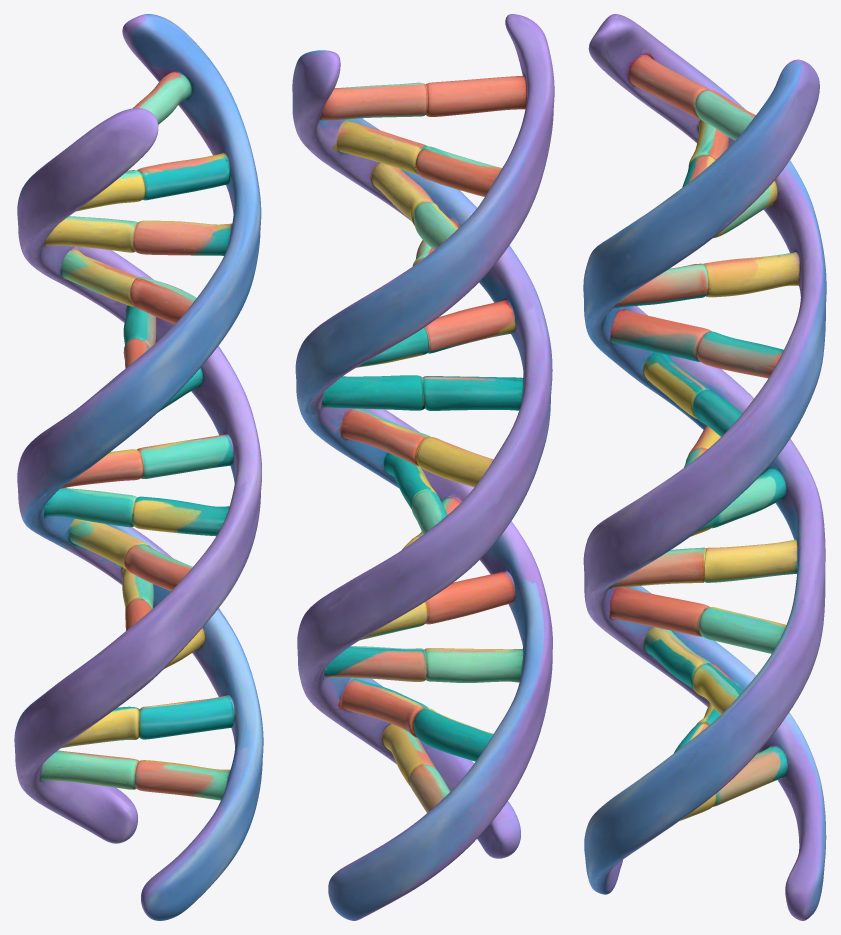
File: dna.glb
3 renders of one model, left to right at view 1: azimuth 30°, elevation 25°; view 2: azimuth 150°, elevation 25°; view 3: azimuth 270°, elevation 25°, orthographic. The views are drawn at different scales.
Parts seen in each view (by area): view 1: dna; view 2: dna; view 3: dna.
Part boxes in pixels (x1=…): dna: x1=14, y1=14, x2=263, y2=920; dna: x1=292, y1=14, x2=554, y2=920; dna: x1=583, y1=14, x2=826, y2=920.
Size of the model in its own units: 0.0807 by 0.3 by 0.076.
Materials: 1 (1 with a texture image).
